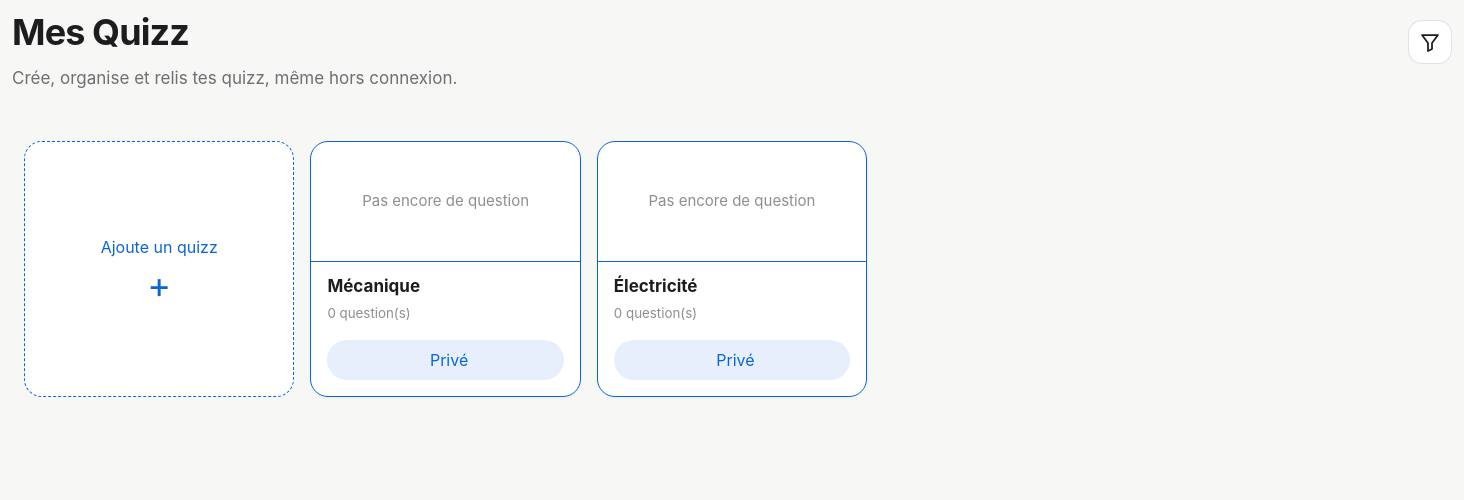
Test: QuestionsPage › filtre les quizz affichés à la racine par leur titre
Expected: the button "Pas encore de question Mécanique 0 question(s)" is shown, [311, 142, 580, 340]
Click the button named "Filtrer".
click(1430, 42)  # box [1408, 20, 1452, 64]
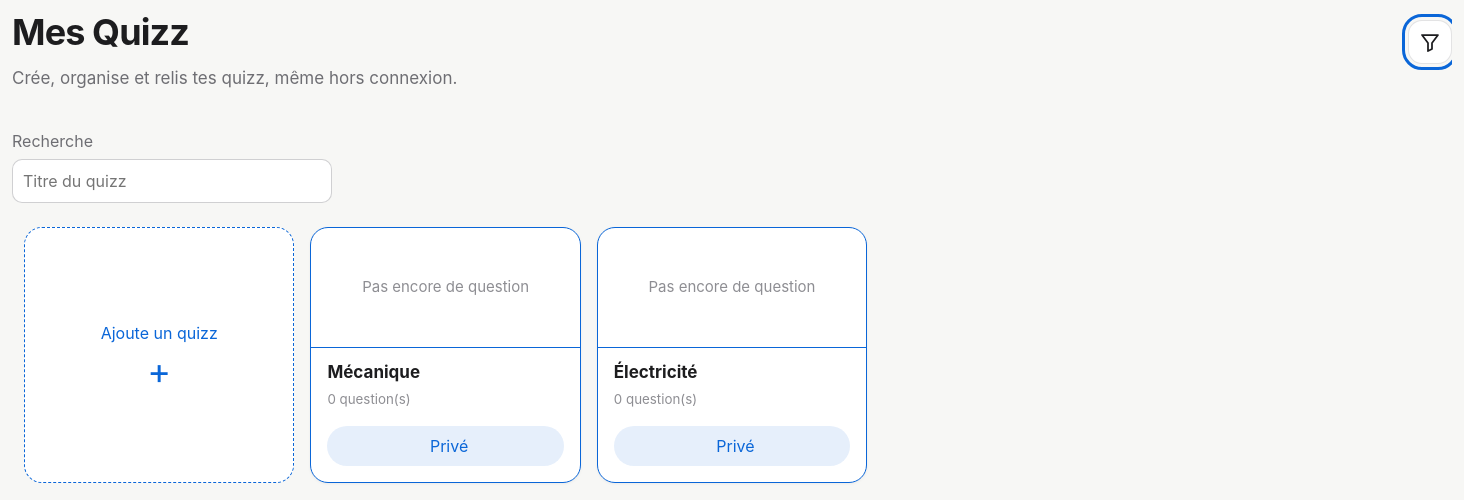
Type "élec" into the field labelled "Recherche".
click(172, 181); type("élec")  # box [12, 159, 332, 203]
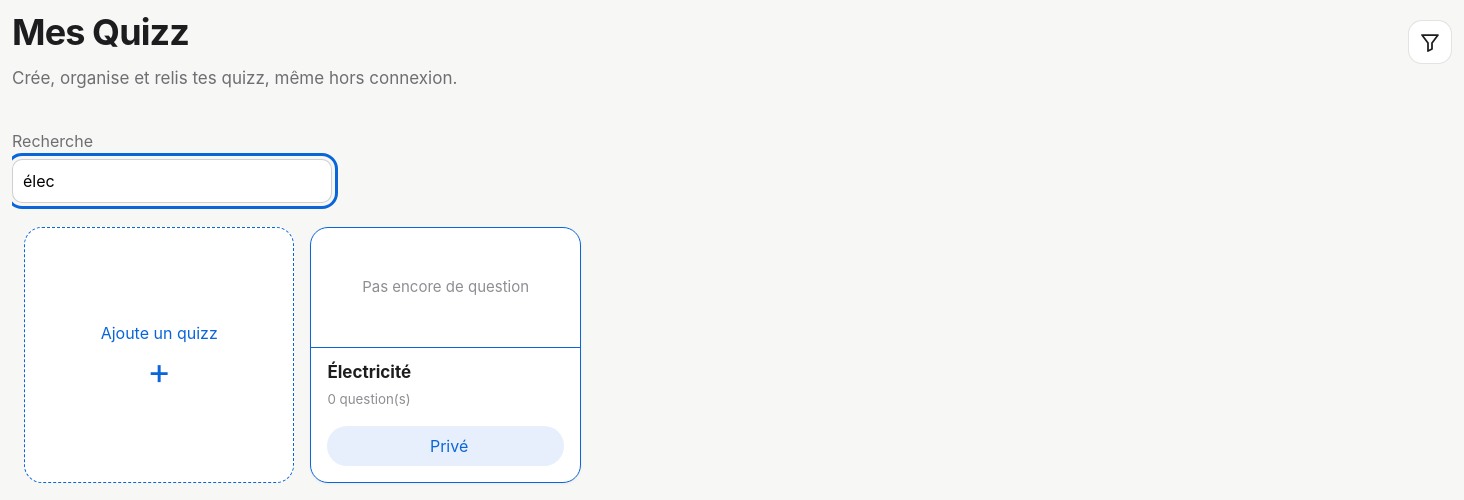
Expected: the button "Pas encore de question Électricité 0 question(s)" is shown, [311, 228, 580, 426]
Result: the button "Mécanique" is gone
